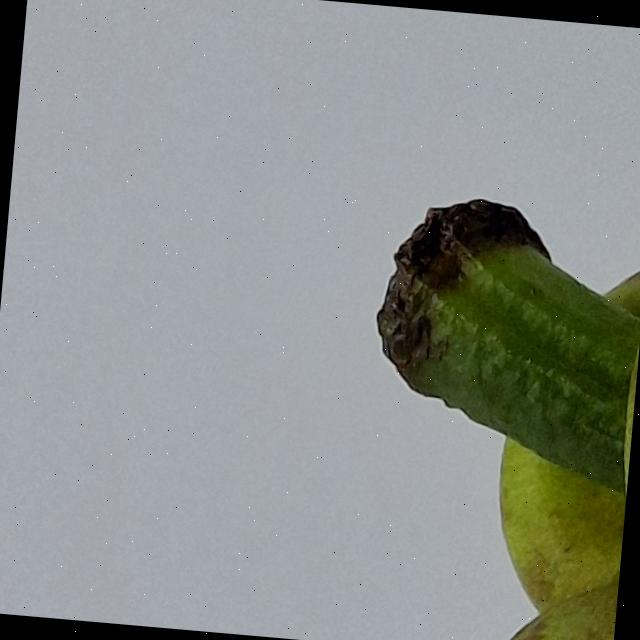mangosteen: (287, 0, 640, 640)
